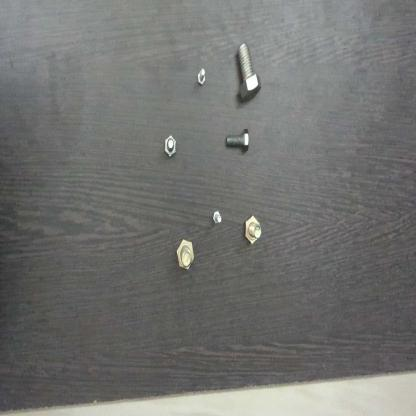Bolts: (234, 38, 262, 104), (240, 210, 266, 251), (223, 124, 252, 156), (177, 232, 198, 272), (163, 129, 180, 157), (195, 63, 207, 87), (210, 205, 222, 226)
